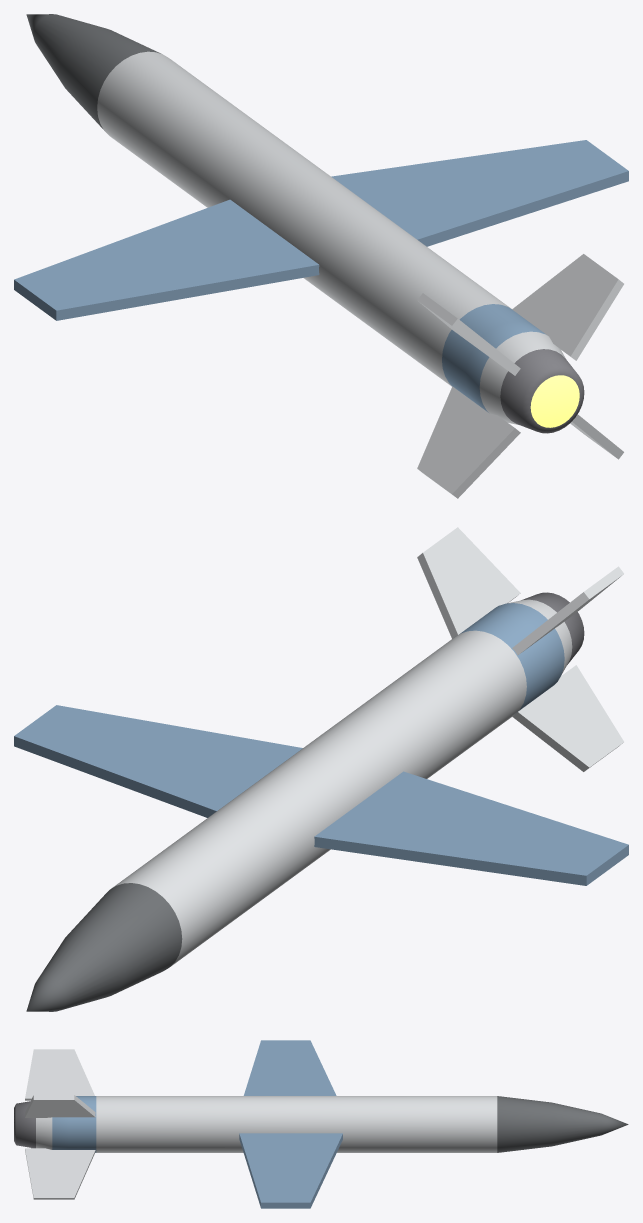
Rendered from cruise-missile.glb.
3 views of the same model, one above another, from view 1: azimuth 30°, elevation 25°; view 2: azimuth 150°, elevation 25°; view 3: azimuth 270°, elevation 25° (orthographic). The views are drawn at different scales.
Parts seen in each view (by area): view 1: CruiseMissile; view 2: CruiseMissile; view 3: CruiseMissile.
Boxes of the visible parts, <box> form: CruiseMissile: <box>14,14,628,498</box>; CruiseMissile: <box>14,527,628,1011</box>; CruiseMissile: <box>14,1040,628,1208</box>.
Bounding box in the file's own units: 3.5 × 1.05 × 5.6.
